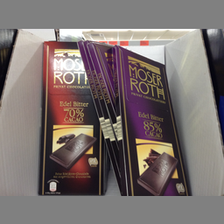chocolate: (113, 45, 189, 196), (39, 41, 104, 195)
